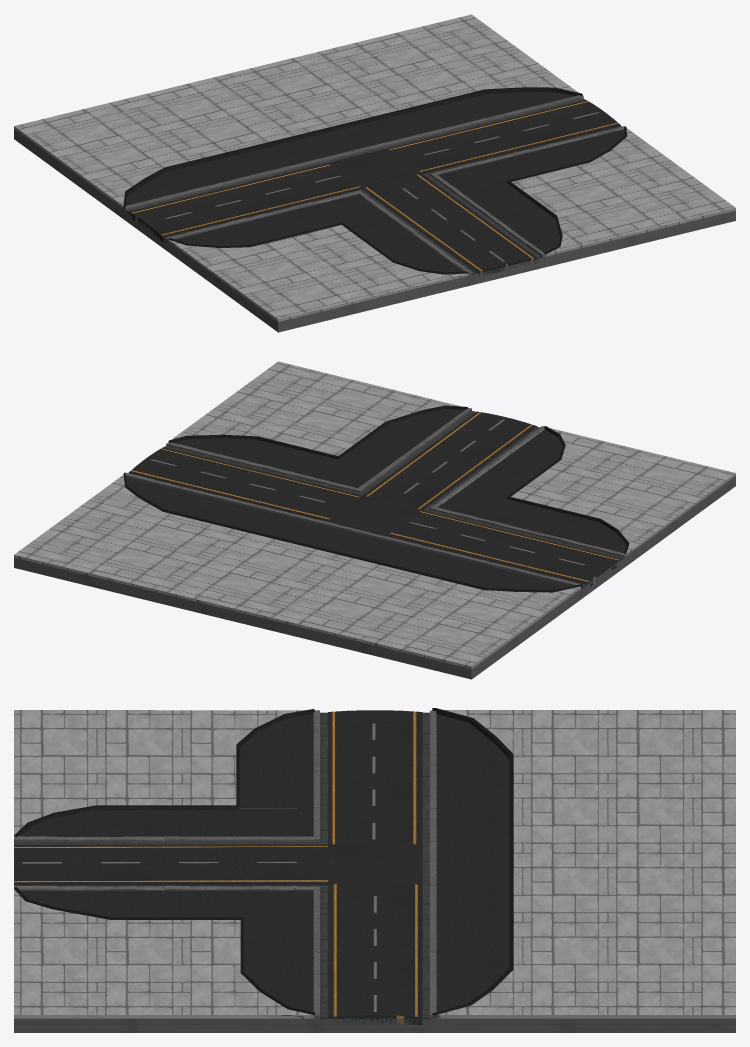
Rendered from Tile_T-junction_ParkingLot.fbx.
3 views of the same model, one above another, from view 1: azimuth 30°, elevation 25°; view 2: azimuth 150°, elevation 25°; view 3: azimuth 270°, elevation 25° (orthographic). The views are drawn at different scales.
Visible parts, largest first — view 1: Tile_T-junction; view 2: Tile_T-junction; view 3: Tile_T-junction.
Part boxes in pixels (x1=…): Tile_T-junction: x1=14, y1=14, x2=735, y2=332; Tile_T-junction: x1=14, y1=361, x2=735, y2=679; Tile_T-junction: x1=14, y1=708, x2=735, y2=1032.
Bounding box in the file's own units: 1811 × 54.16 × 1811.
